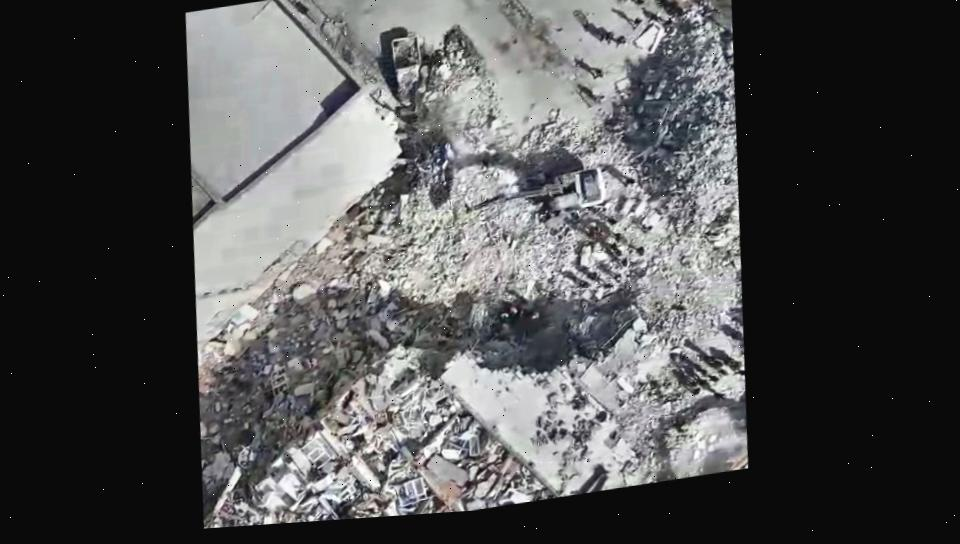kapali: (343, 0, 746, 429), (548, 0, 740, 258)
